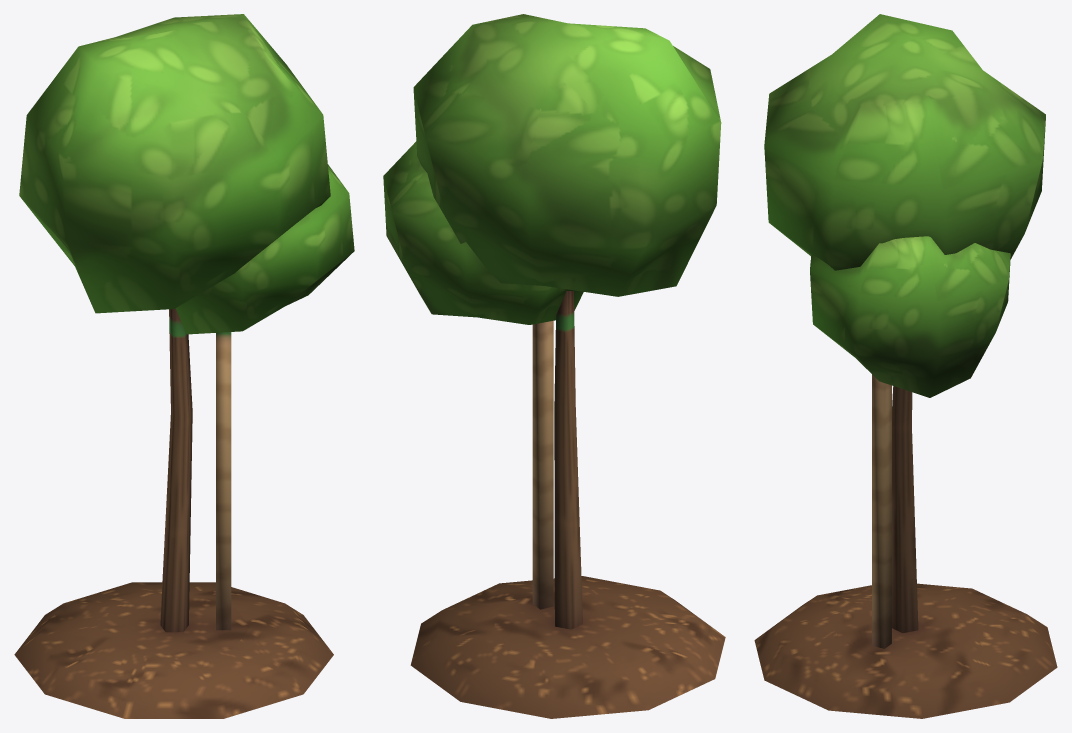
Rendered from sapling.obj.
3 renders of one model, left to right at view 1: azimuth 30°, elevation 25°; view 2: azimuth 150°, elevation 25°; view 3: azimuth 270°, elevation 25°, orthographic. The views are drawn at different scales.
Visible parts, largest first — view 1: Sapling; view 2: Sapling; view 3: Sapling.
Part boxes in pixels (x1,y1,x2,y2): Sapling: (14, 14, 354, 718); Sapling: (383, 14, 725, 718); Sapling: (754, 14, 1057, 718).
Size of the model in its own units: 0.9218 by 1.81 by 0.8216.
Materials: 1 (1 with a texture image).
